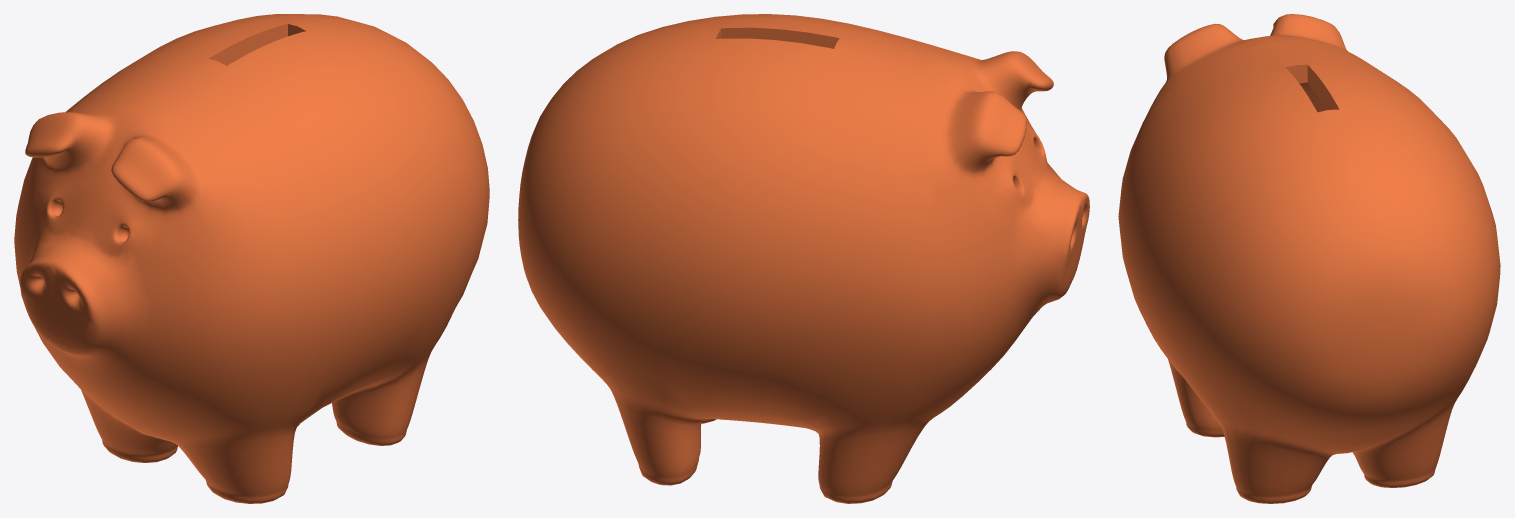
The model's file is SM_PiggyBank.fbx.
3 views of the same model, side by side, from view 1: azimuth 30°, elevation 25°; view 2: azimuth 150°, elevation 25°; view 3: azimuth 270°, elevation 25° (orthographic). The views are drawn at different scales.
Visible parts, largest first — view 1: pig; view 2: pig; view 3: pig.
Part boxes in pixels (bbox=[...]): pig: bbox=[14, 14, 489, 503]; pig: bbox=[518, 14, 1089, 503]; pig: bbox=[1118, 14, 1500, 503].
Bounding box in the file's own units: 25.63 × 19.39 × 20.77.
